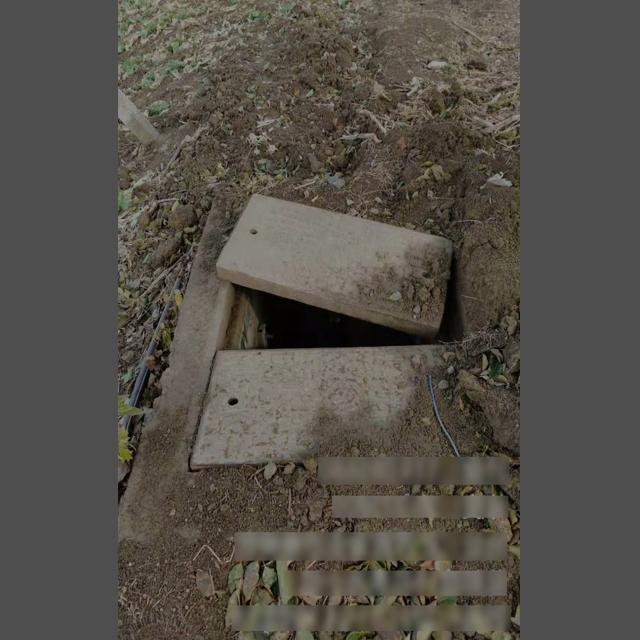uncovered: (118, 181, 501, 556)
